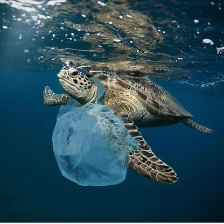plastic_bag: (46, 73, 139, 190)
